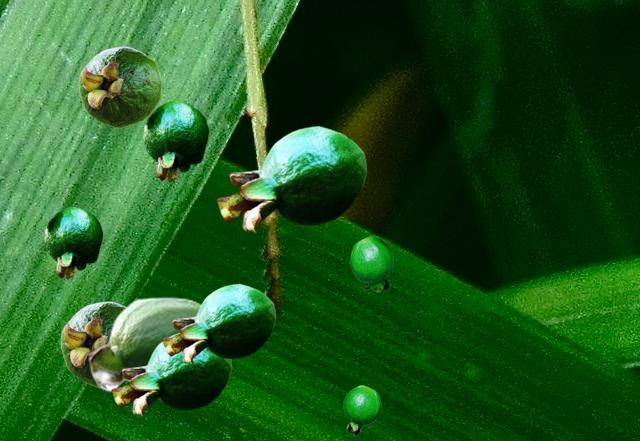guava: (216, 125, 366, 233), (88, 296, 201, 391), (111, 332, 231, 416), (162, 283, 275, 364), (78, 46, 161, 127), (60, 301, 124, 387), (143, 100, 208, 181), (44, 206, 102, 278), (350, 236, 392, 291), (343, 385, 380, 435)
